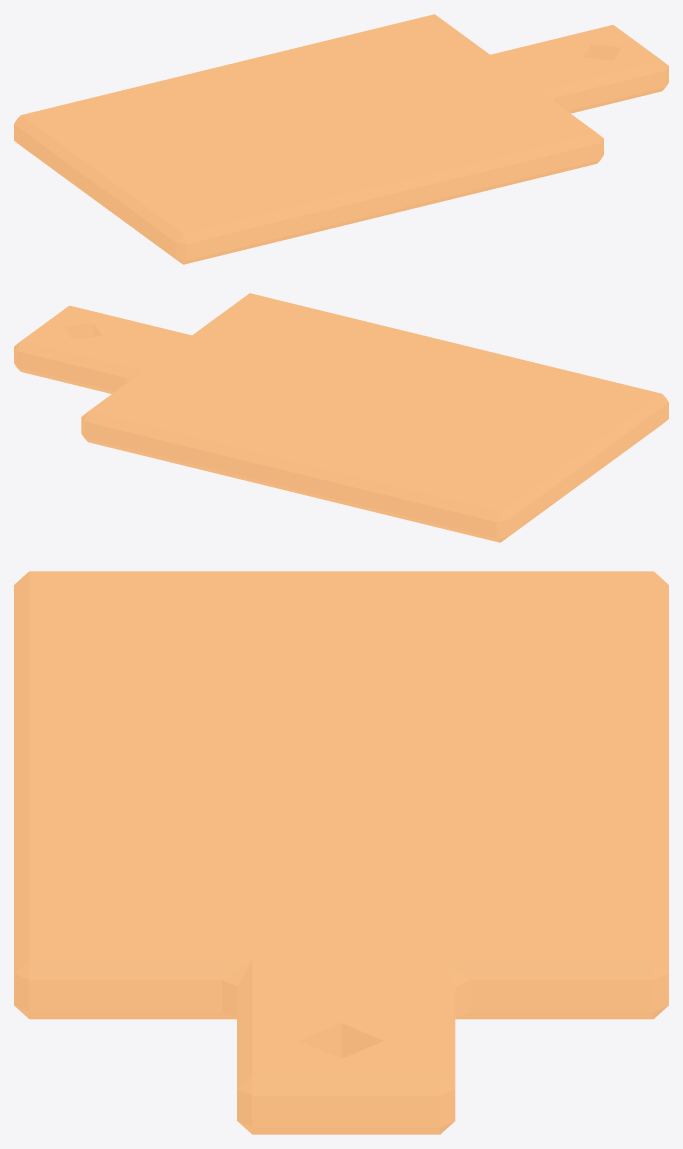
File: 008_woodPlane.gltf
3 views of the same model, one above another, from view 1: azimuth 30°, elevation 25°; view 2: azimuth 150°, elevation 25°; view 3: azimuth 270°, elevation 25° (orthographic). The views are drawn at different scales.
Visible parts, largest first — view 1: Cube; view 2: Cube; view 3: Cube.
Boxes of the visible parts, x1,y1,x2,y2 form: Cube: (14, 14, 668, 264); Cube: (14, 293, 668, 542); Cube: (14, 571, 668, 1134).
Size of the model in its own units: 3.74 by 0.2 by 2.
